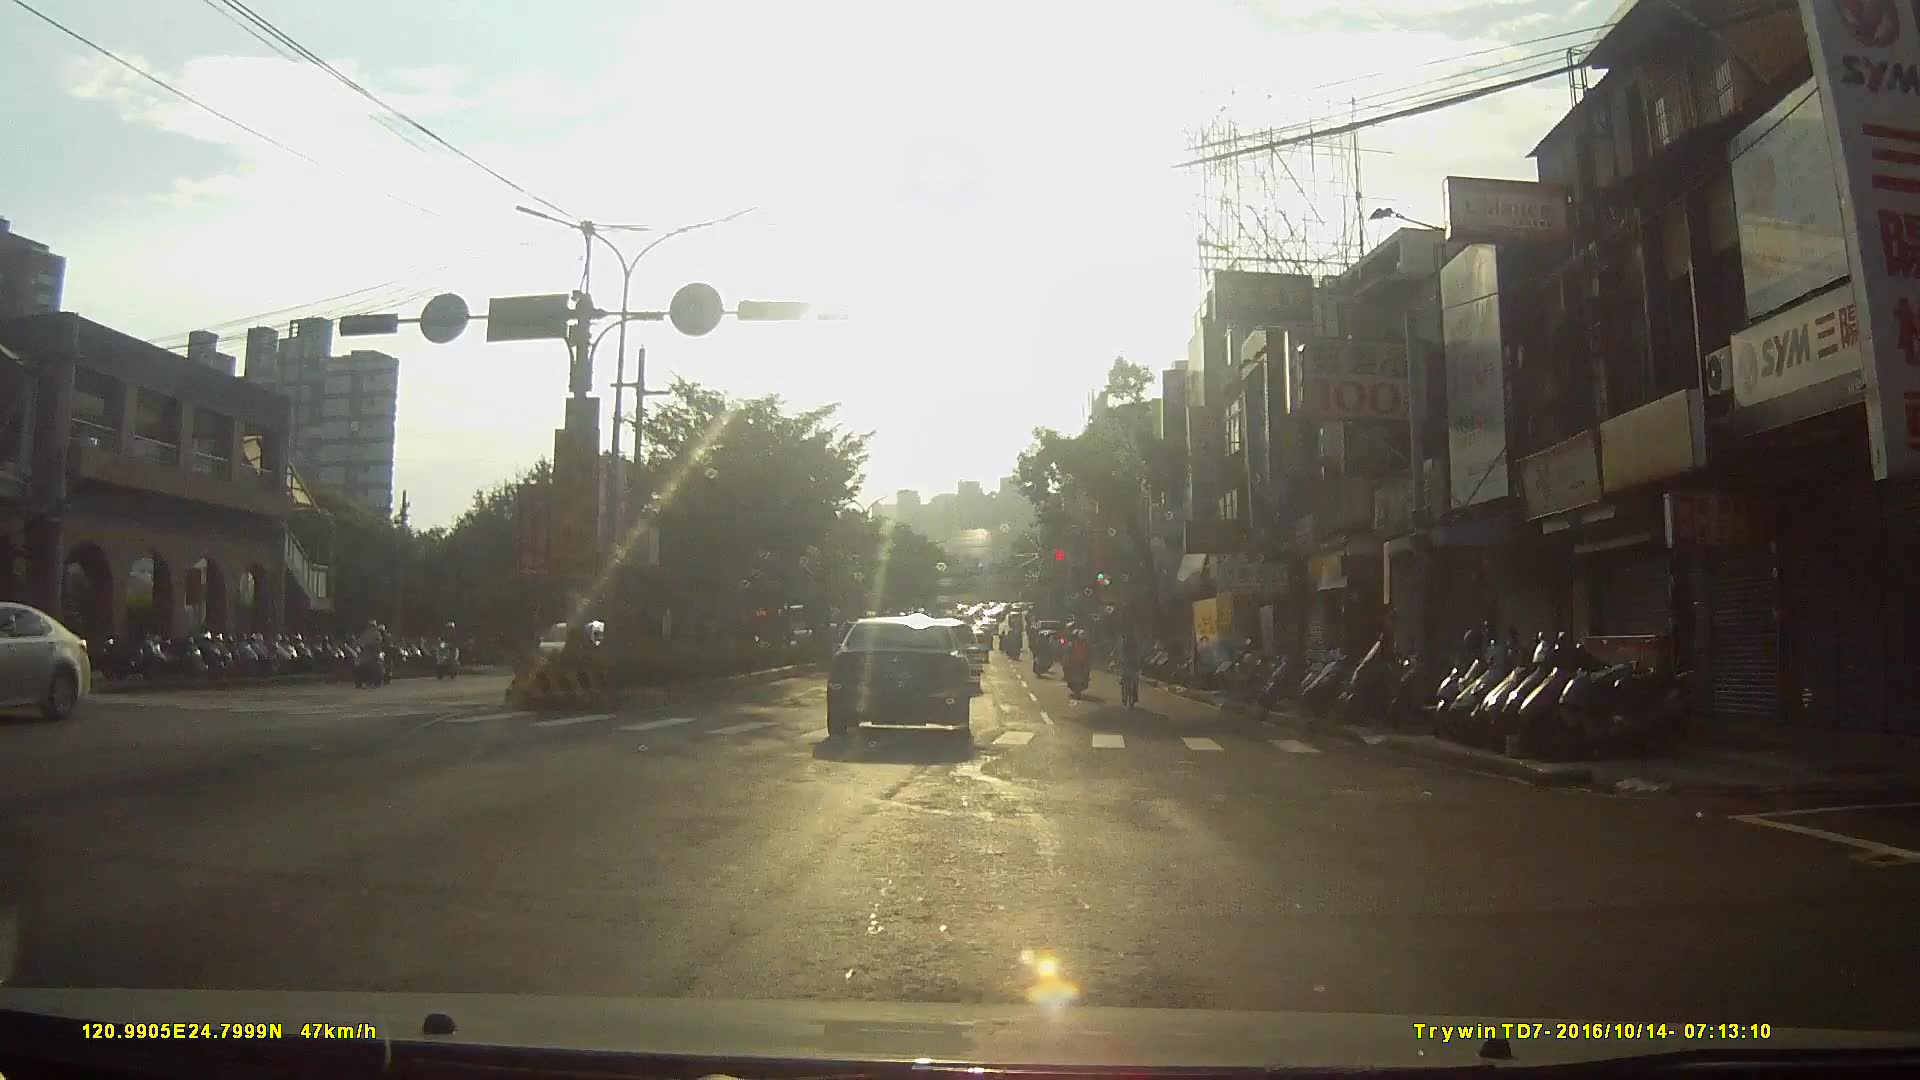rider: (1113, 624, 1144, 715), (352, 620, 386, 690), (1065, 632, 1092, 702), (438, 621, 465, 685), (1030, 628, 1055, 682)
vehicle: (830, 609, 988, 751), (1, 604, 115, 729)
